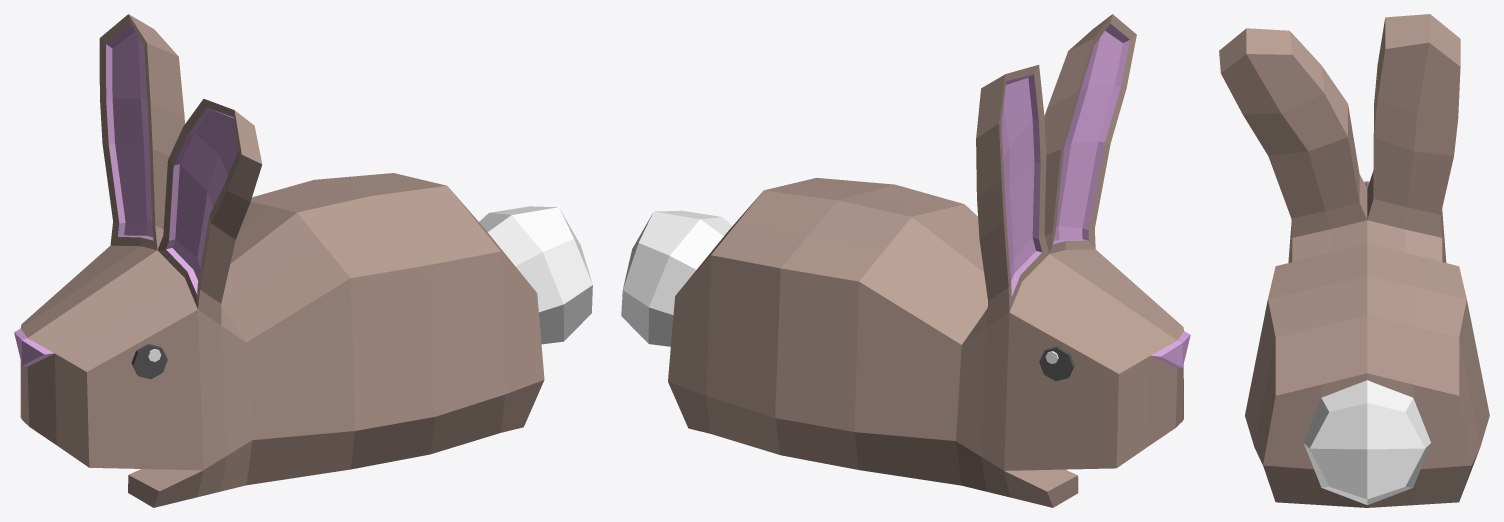
File: bunny.gltf
3 renders of one model, left to right at view 1: azimuth 30°, elevation 25°; view 2: azimuth 150°, elevation 25°; view 3: azimuth 270°, elevation 25°, orthographic. The views are drawn at different scales.
Parts seen in each view (by area): view 1: node-0; view 2: node-0; view 3: node-0.
Part boxes in pixels (x1,y1,x2,y2): node-0: (14,14,592,507); node-0: (621,14,1190,507); node-0: (1219,14,1489,507).
Bounding box in the file's own units: 268 × 192 × 130.
